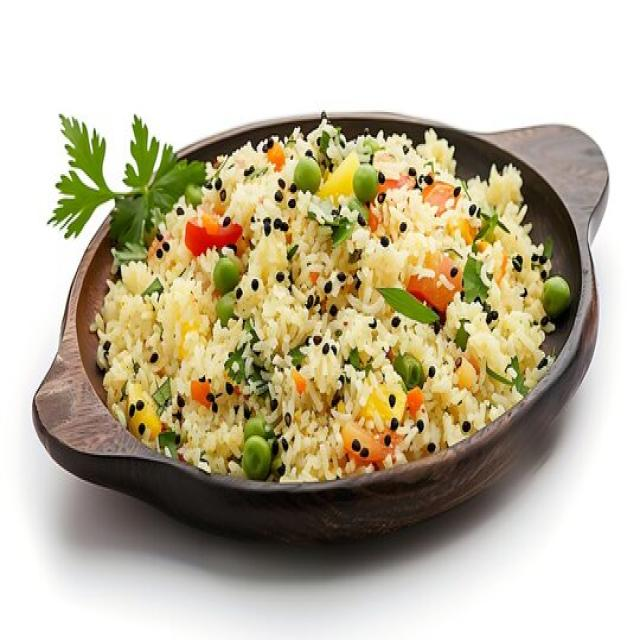UPMA: (51, 116, 570, 480)
